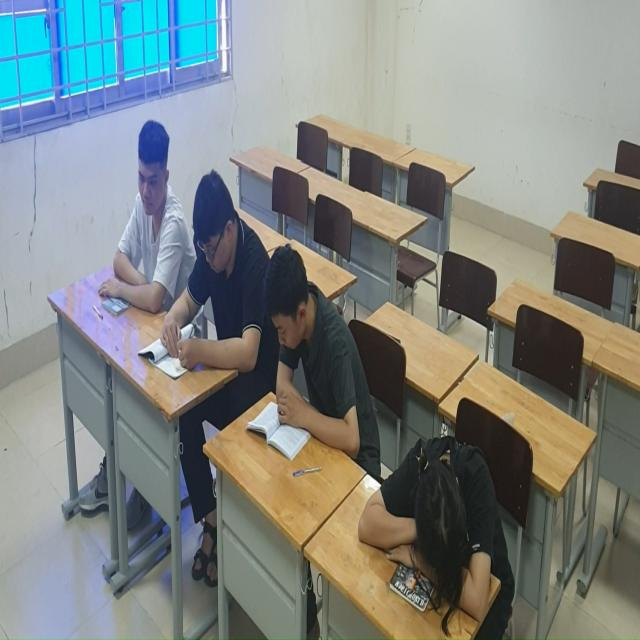read: (78, 108, 198, 349), (158, 178, 270, 425), (267, 238, 373, 464)
sleep: (358, 439, 519, 626)
